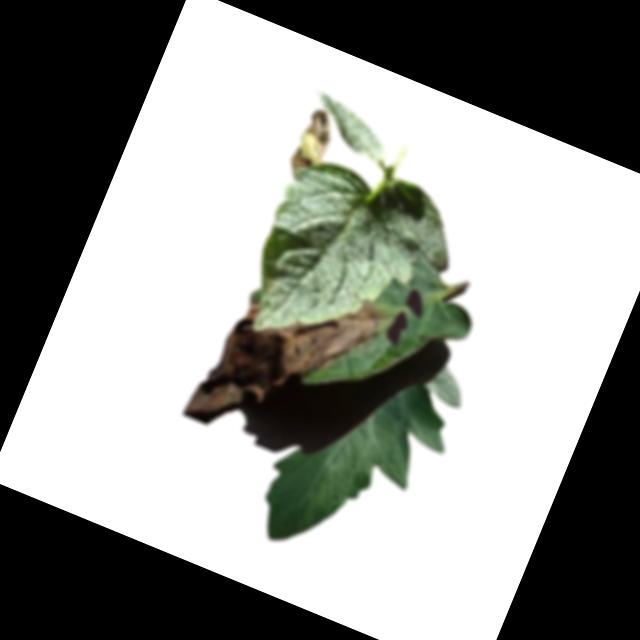Late_blight: (246, 344, 461, 586), (184, 256, 386, 468), (284, 107, 343, 185)
